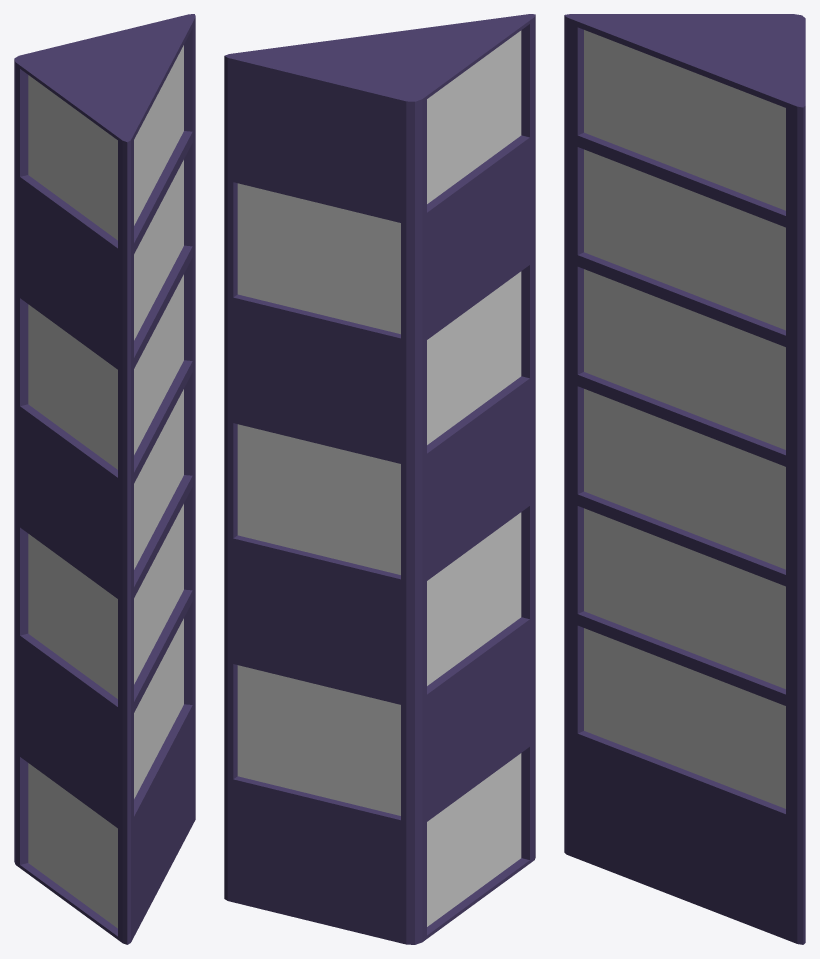
Rendered from Batiment_C.fbx.
3 renders of one model, left to right at view 1: azimuth 30°, elevation 25°; view 2: azimuth 150°, elevation 25°; view 3: azimuth 270°, elevation 25°, orthographic. The views are drawn at different scales.
Parts seen in each view (by area): view 1: Cube.025; view 2: Cube.025; view 3: Cube.025.
Part boxes in pixels (box(x1,y1,x2,y2)): Cube.025: box(14, 14, 195, 944); Cube.025: box(224, 14, 535, 944); Cube.025: box(564, 14, 805, 944).
Size of the model in its own units: 249 by 1038 by 271.
